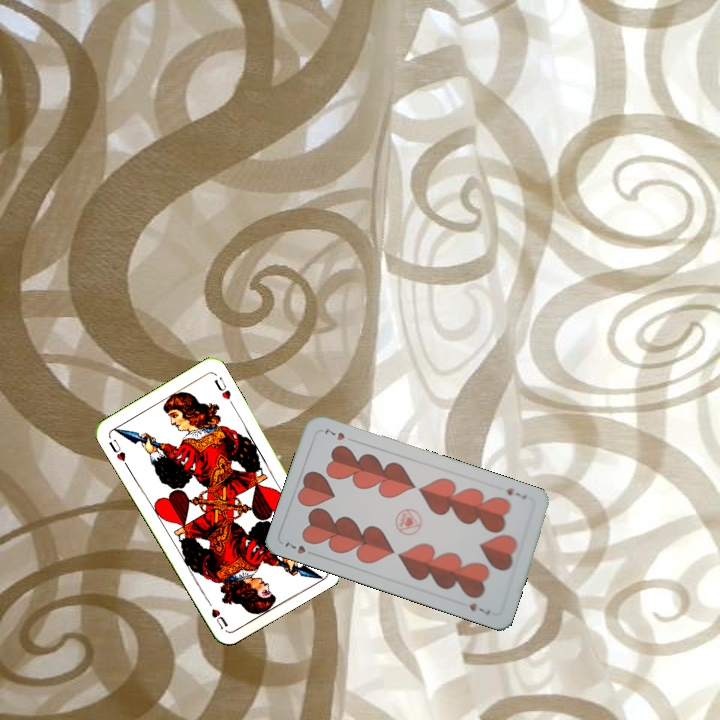H7: (281, 538, 308, 557), (503, 484, 530, 502)
HU: (104, 435, 131, 470)
